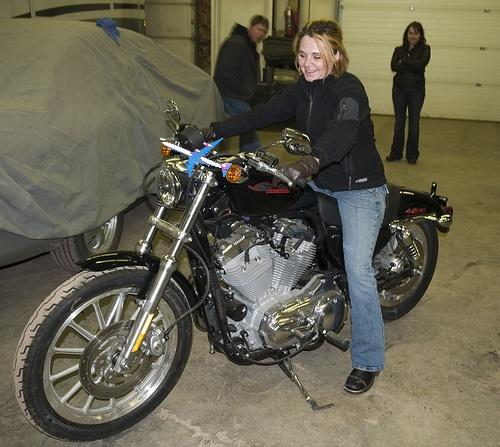tampered: (163, 139, 232, 177)
